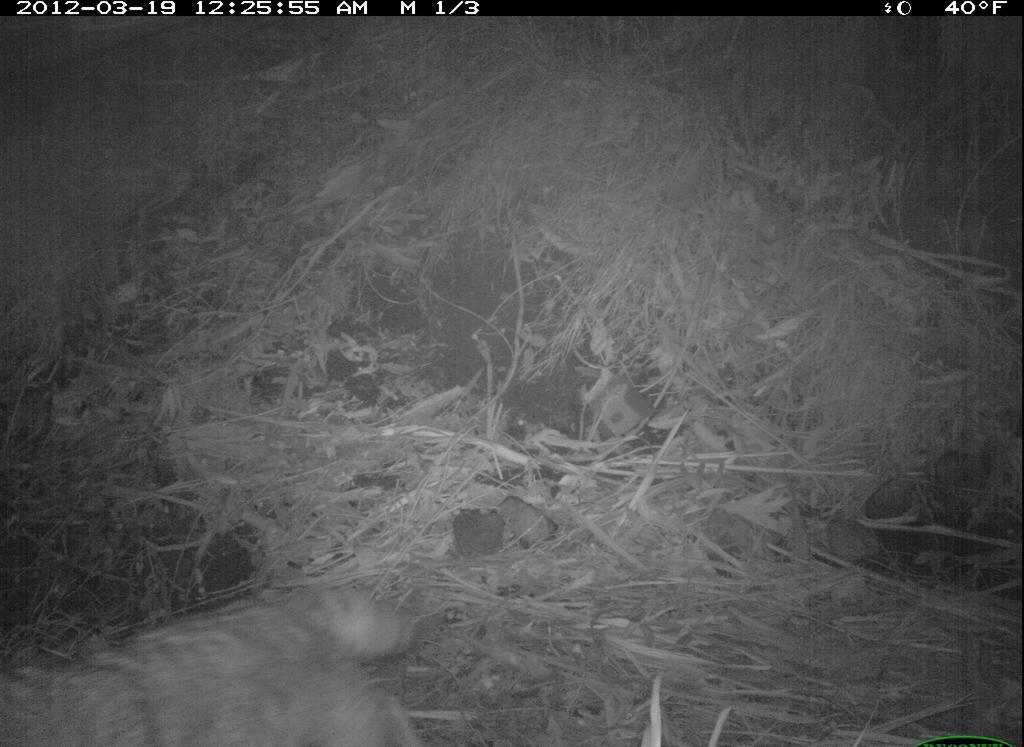coyote: (1, 578, 431, 747)
